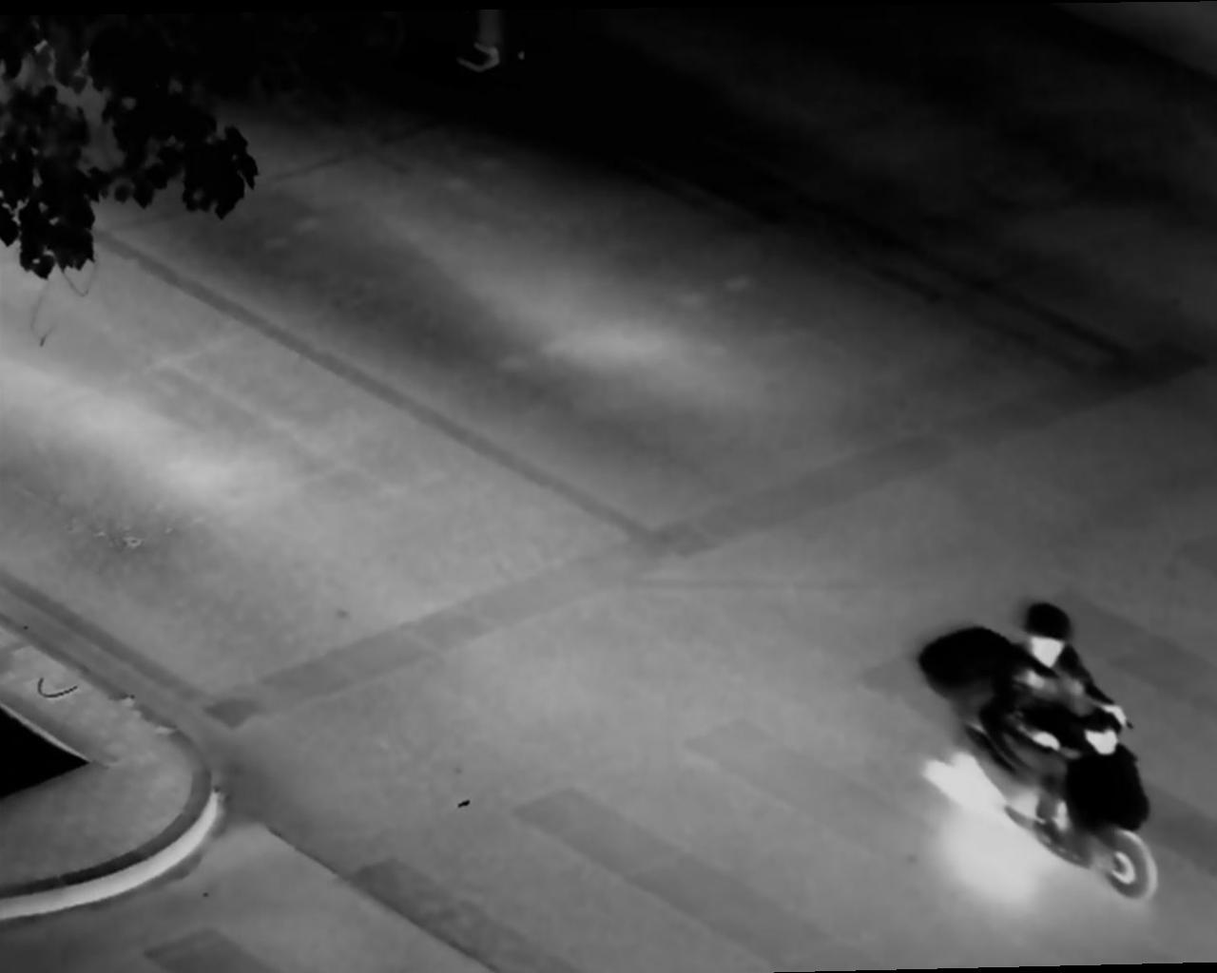person: (1006, 595, 1143, 861)
